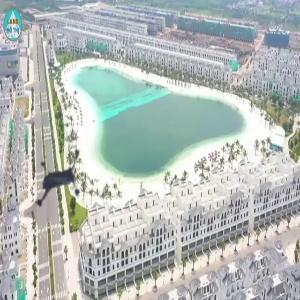drone: (19, 152, 96, 229)
